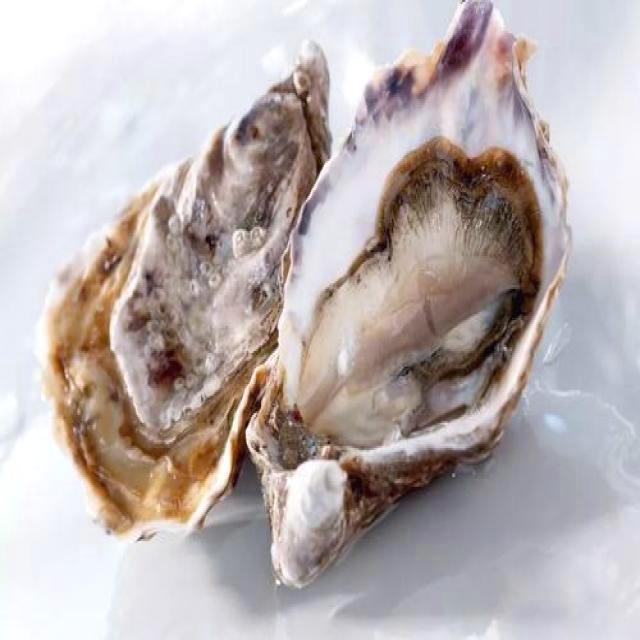Oyster-Closed: (33, 41, 335, 544)
Oyster-Open: (246, 0, 573, 592)
